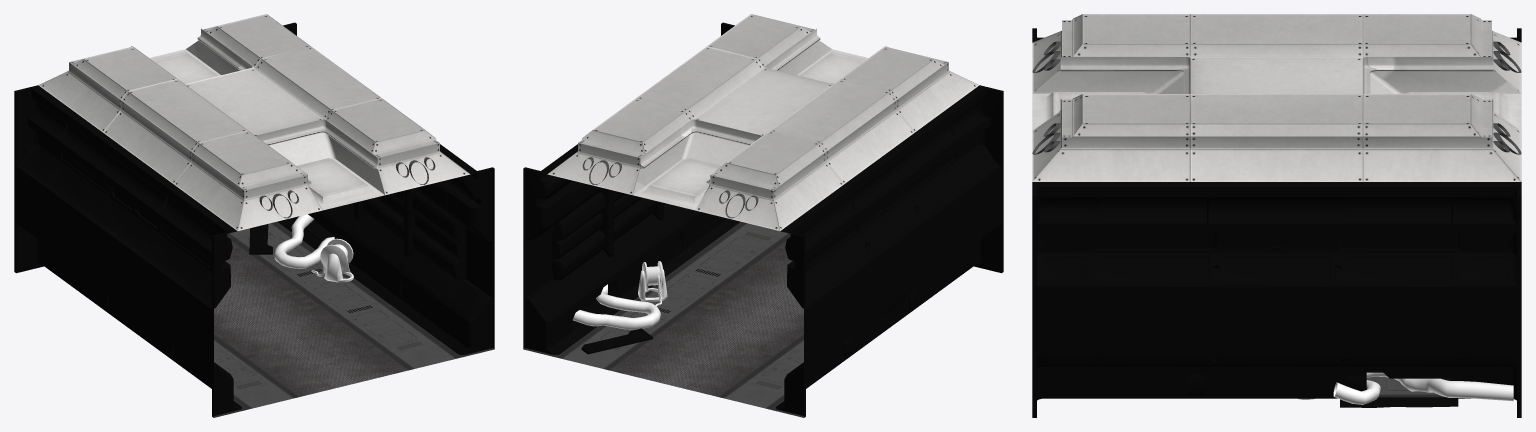
Rendered from HallwayStraightDressed.fbx.
The picture shows the model from 3 angles, left to right: view 1: azimuth 30°, elevation 25°; view 2: azimuth 150°, elevation 25°; view 3: azimuth 270°, elevation 25°; orthographic projection. The views are drawn at different scales.
Parts seen in each view (by area): view 1: HallwayStraightDressed; view 2: HallwayStraightDressed; view 3: HallwayStraightDressed.
Boxes of the visible parts, x1,y1,x2,y2 form: HallwayStraightDressed: (14, 14, 494, 417); HallwayStraightDressed: (523, 14, 1003, 417); HallwayStraightDressed: (1032, 14, 1521, 417).
Bounding box in the file's own units: 650 × 480 × 800.
